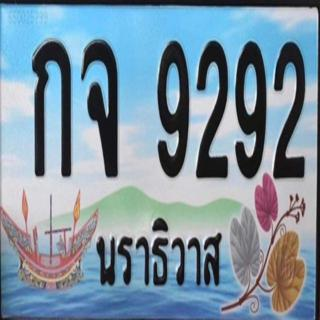A01: (26, 29, 75, 181)
A08: (77, 32, 134, 183)
N02: (270, 36, 308, 183), (194, 37, 230, 184)
N09: (150, 37, 194, 180), (232, 38, 271, 181)
P34: (90, 214, 227, 293)
